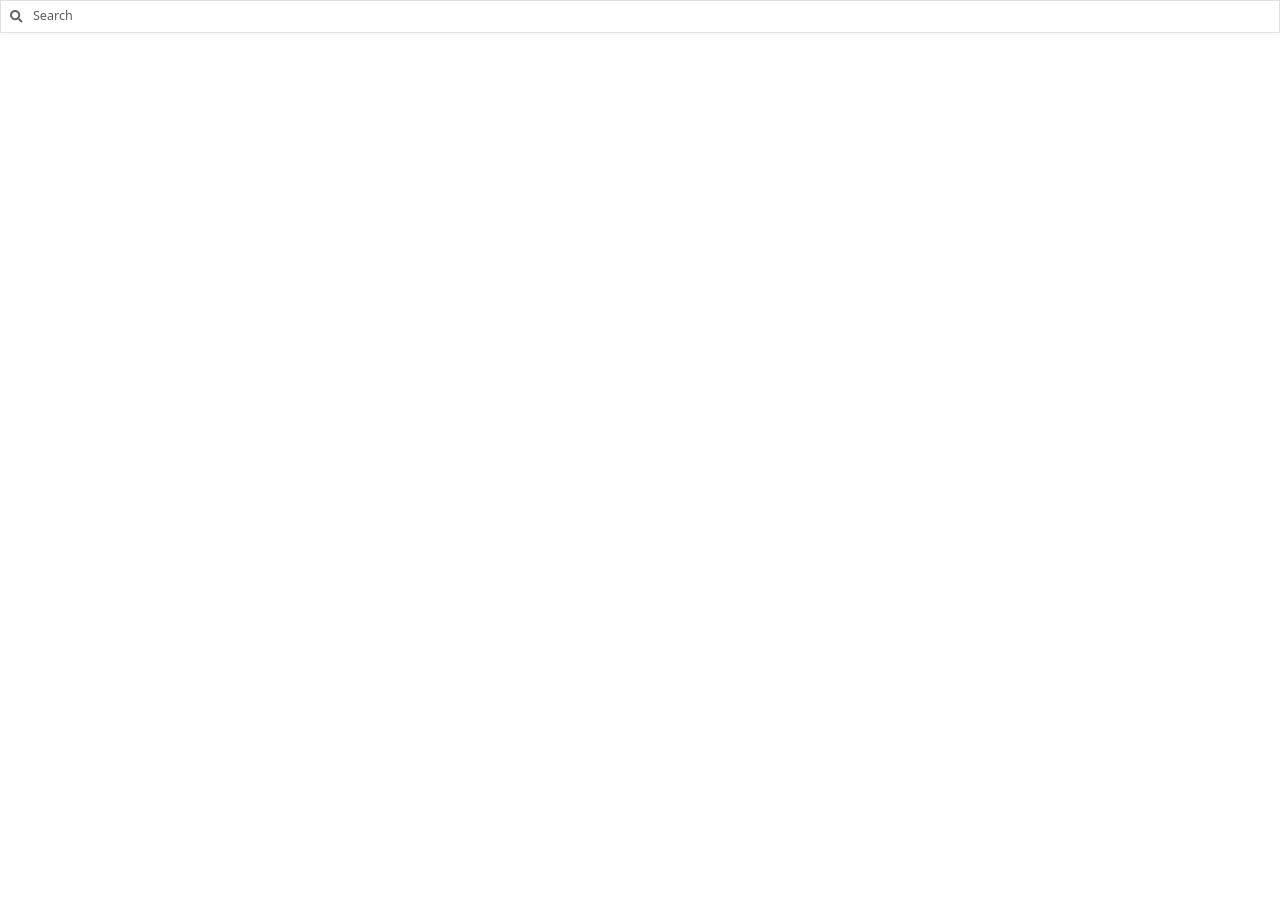
Test: batches source covers without downloading per-source image collections
The image size is (1280, 900).
Type "rome" into the search field named "Search profiles, clubs, events, and sources" at (655, 16), box [32, 1, 1279, 32]
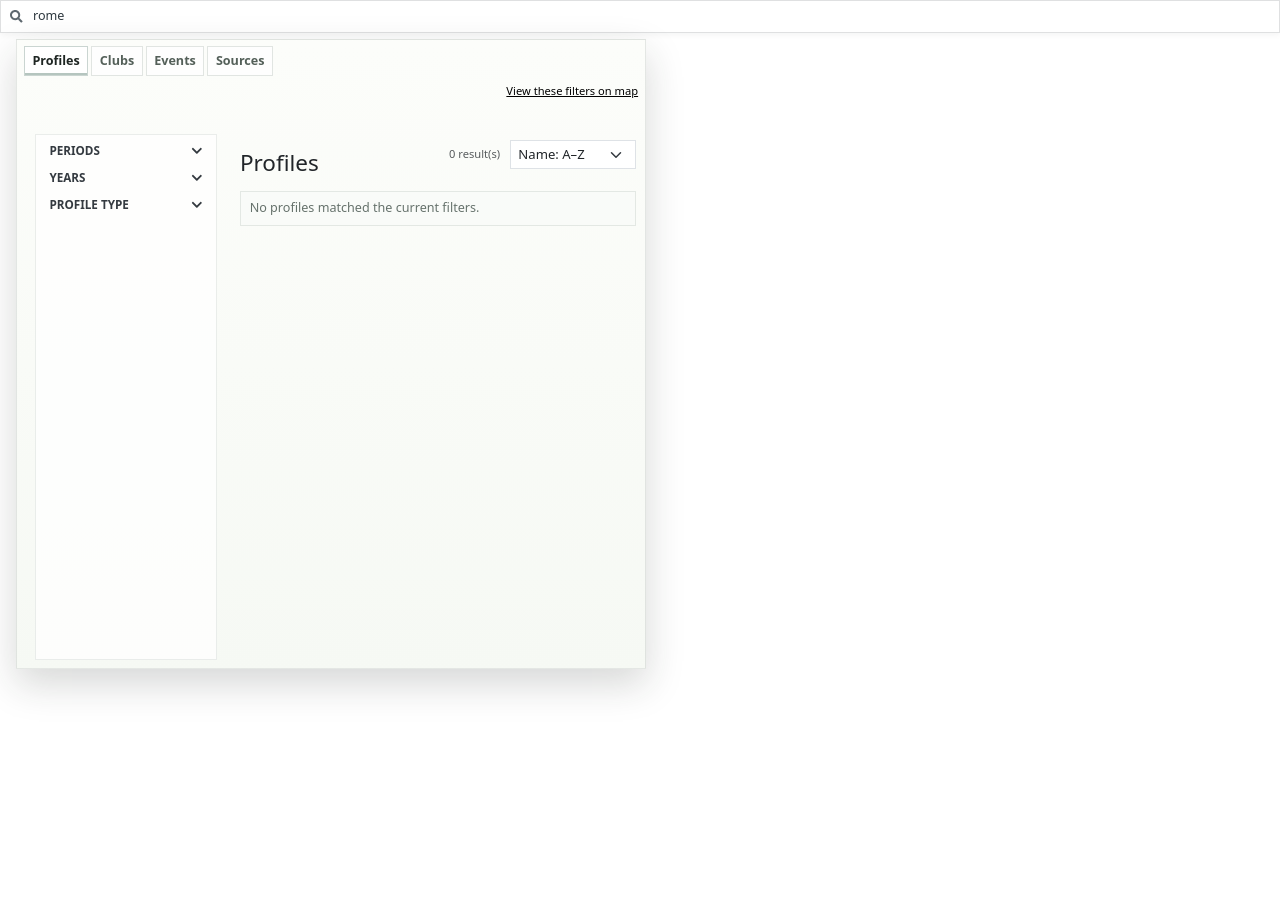
Click the button "Sources" at (240, 61), box [207, 46, 273, 76]
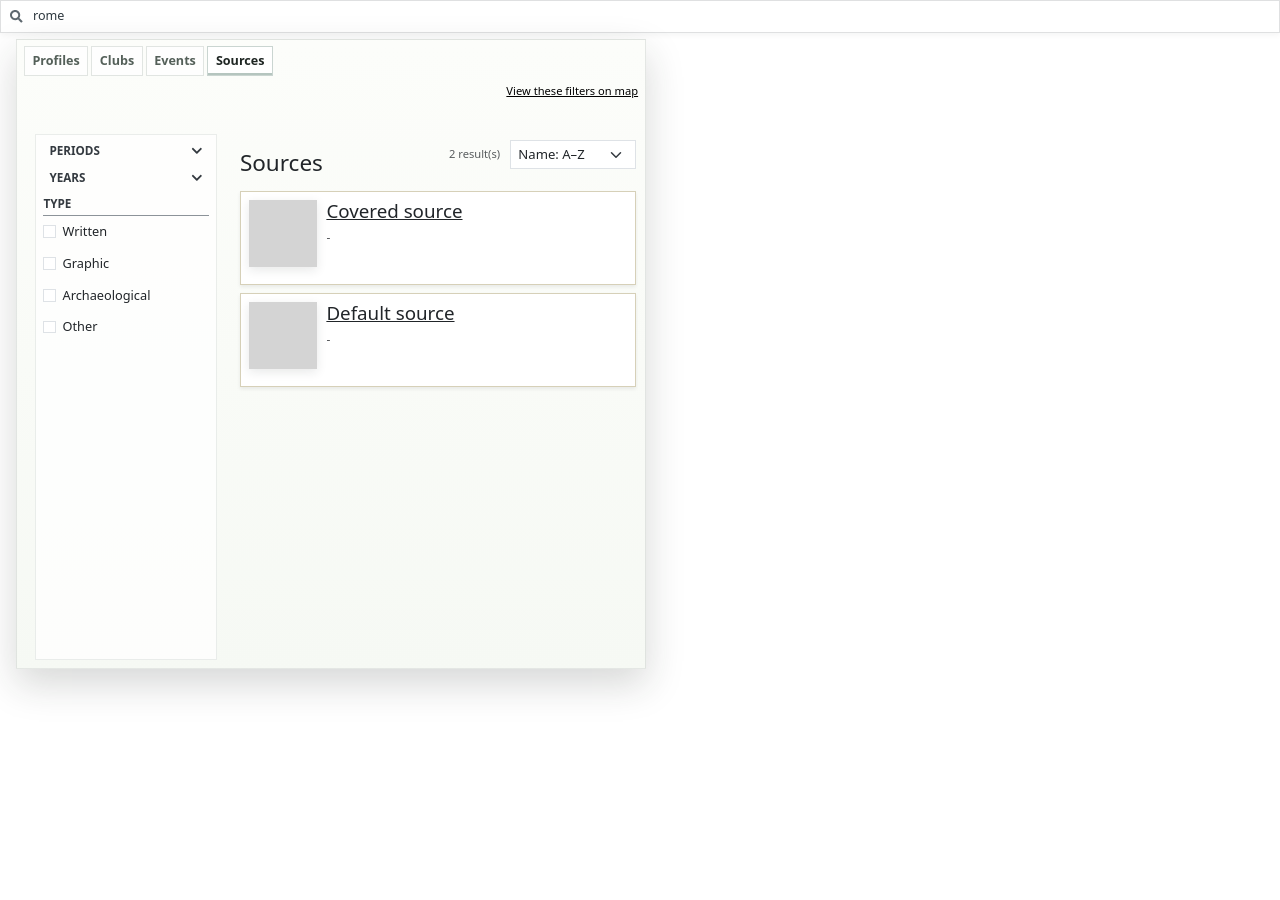
Check: the link "Covered source" is shown, box [326, 198, 462, 223]
